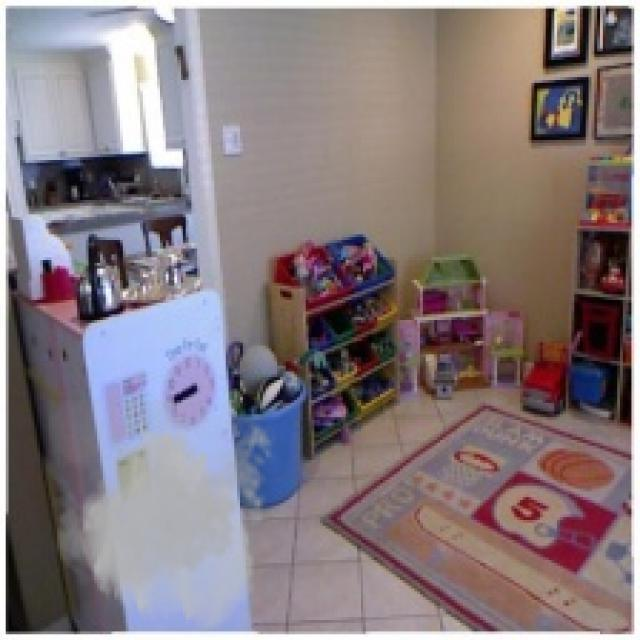Smoke: (48, 400, 280, 634)
